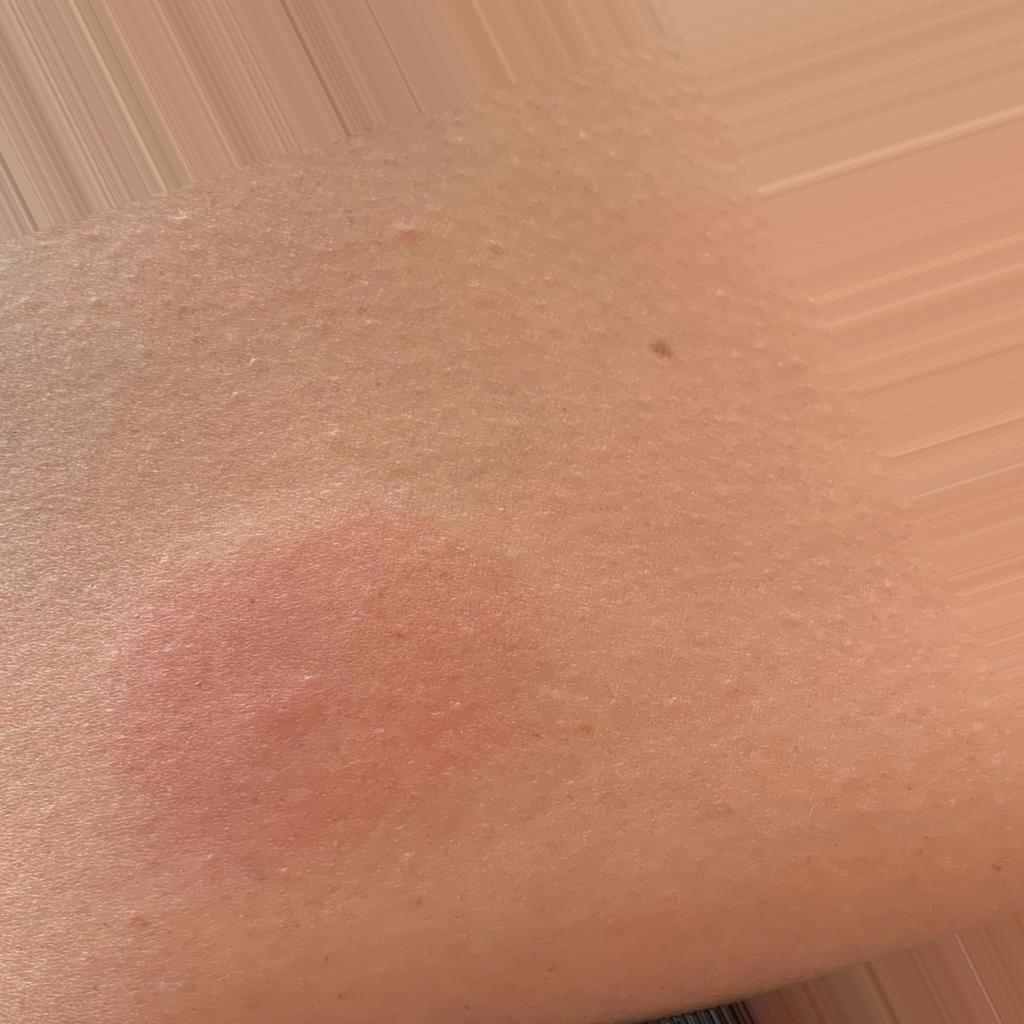Mosquito: (81, 487, 565, 897)
